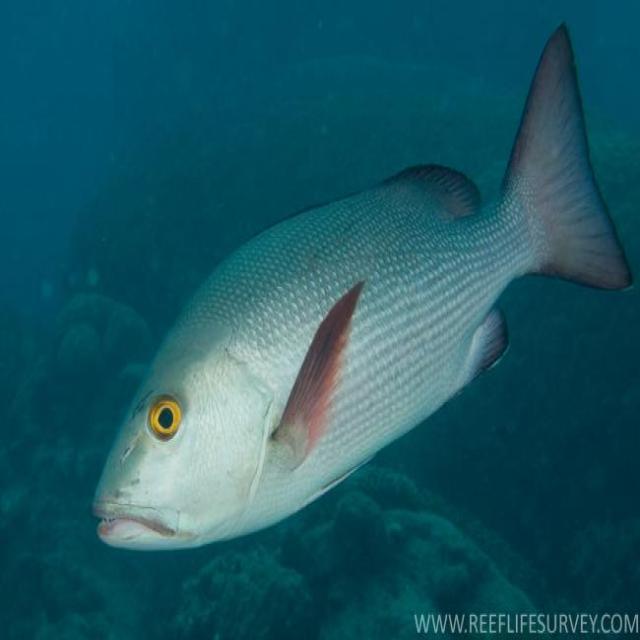ikan: (91, 19, 633, 554)
